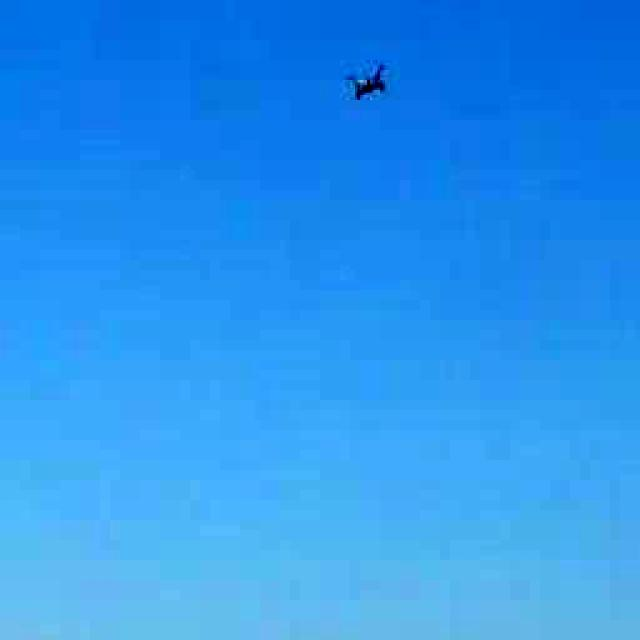bird: (331, 48, 406, 122)
